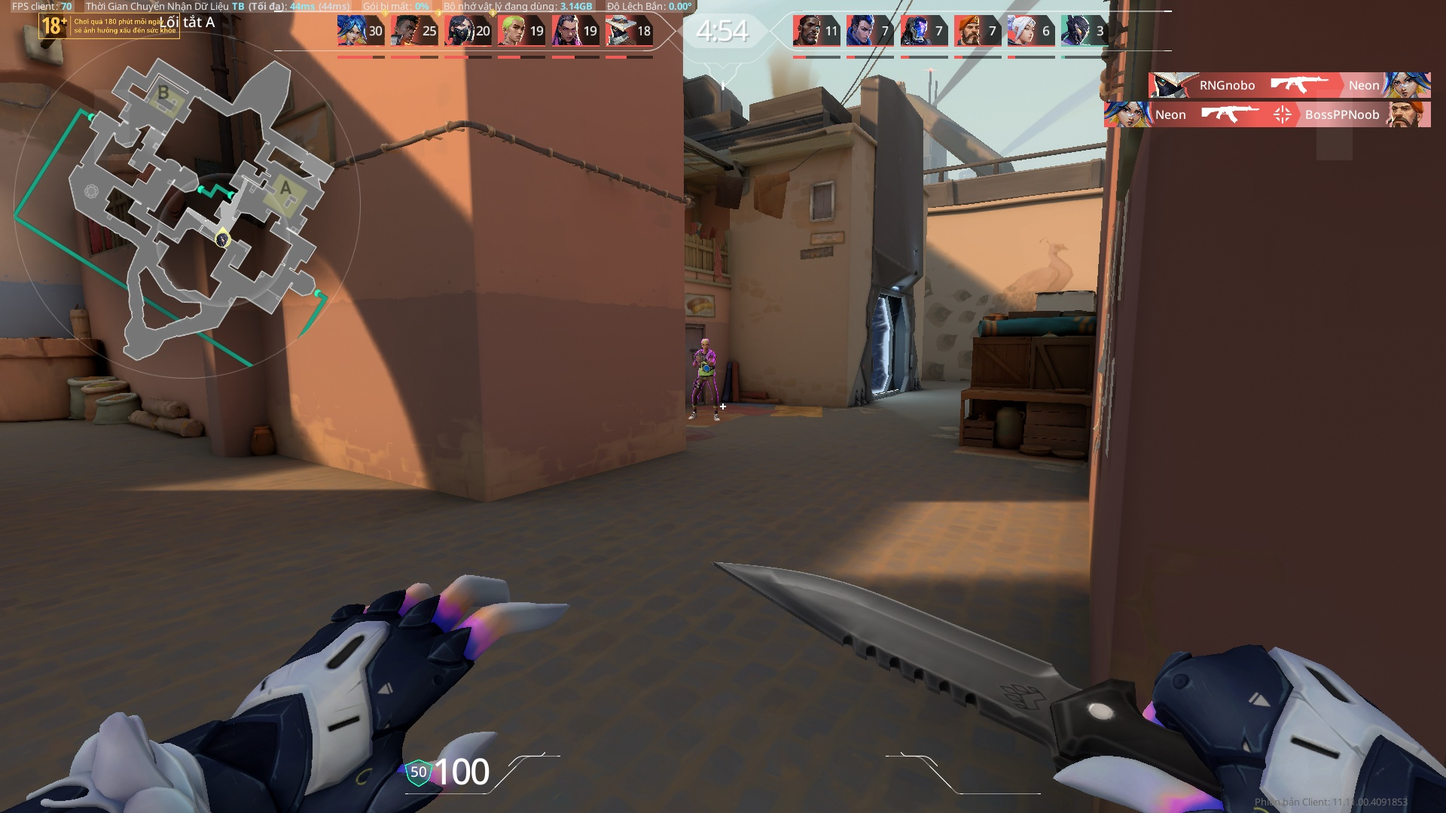body: (693, 345, 719, 376)
head: (699, 336, 709, 351)
